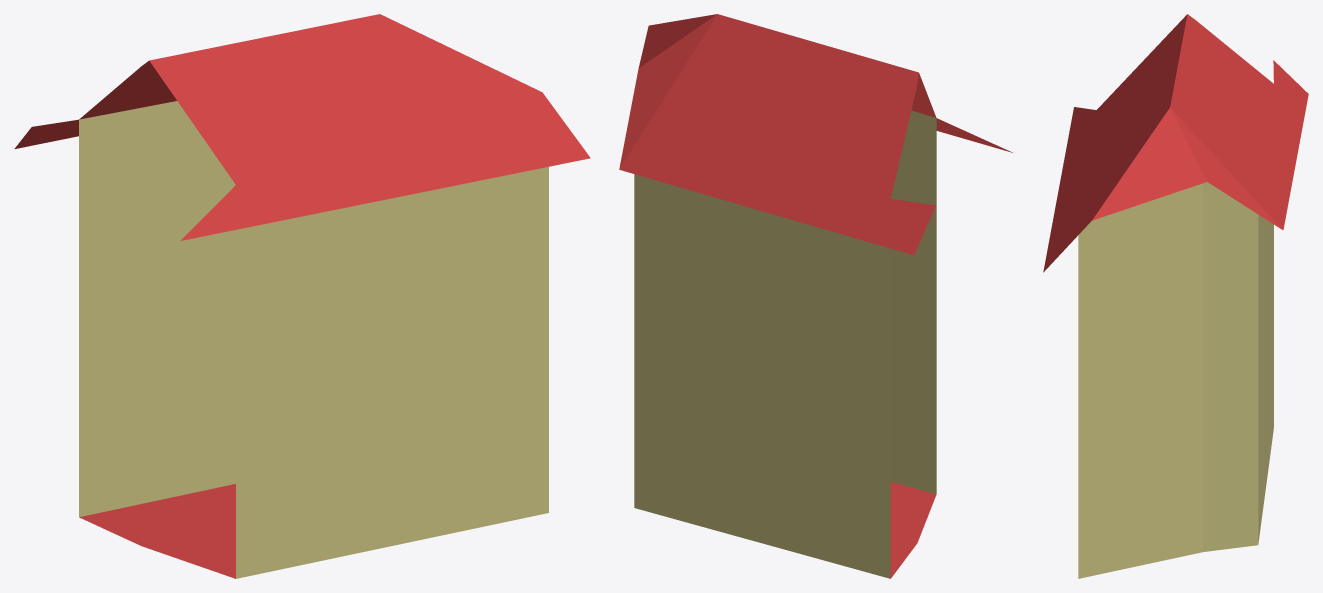
3 views of the same model, side by side, from view 1: azimuth 30°, elevation 25°; view 2: azimuth 150°, elevation 25°; view 3: azimuth 270°, elevation 25° (orthographic). The views are drawn at different scales.
Size of the model in its own units: 10.91 by 6.8 by 11.94.
